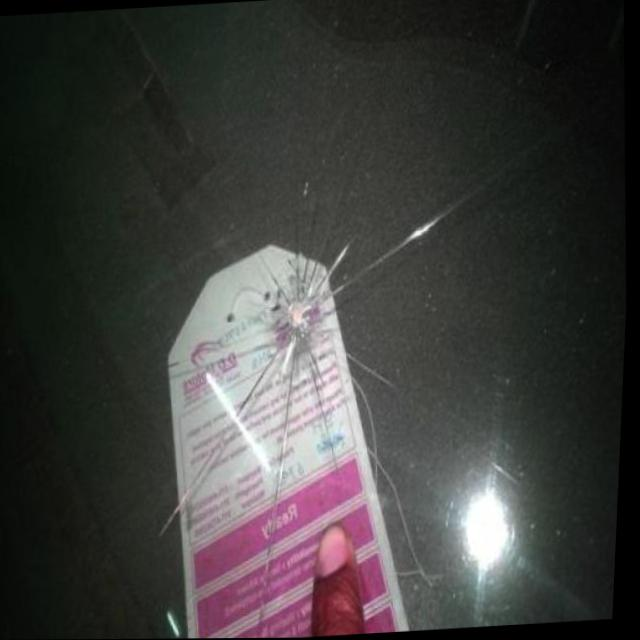Car-Damage: (246, 223, 374, 385)
